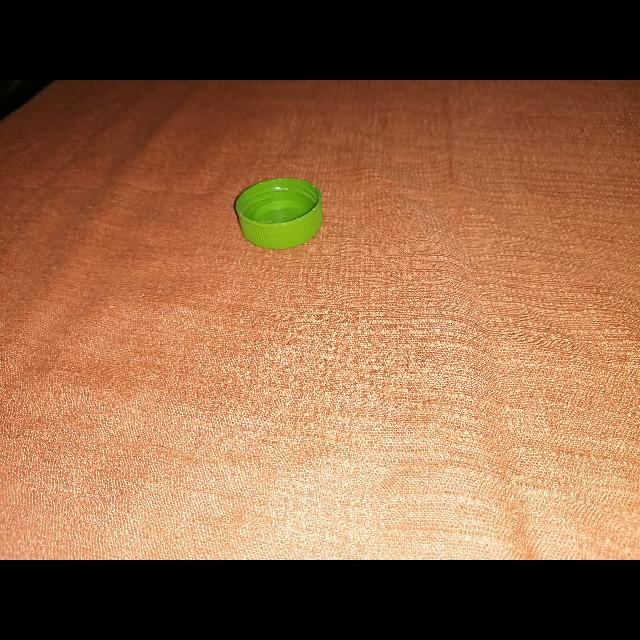plastic_bottle_cap: (236, 178, 324, 250)
